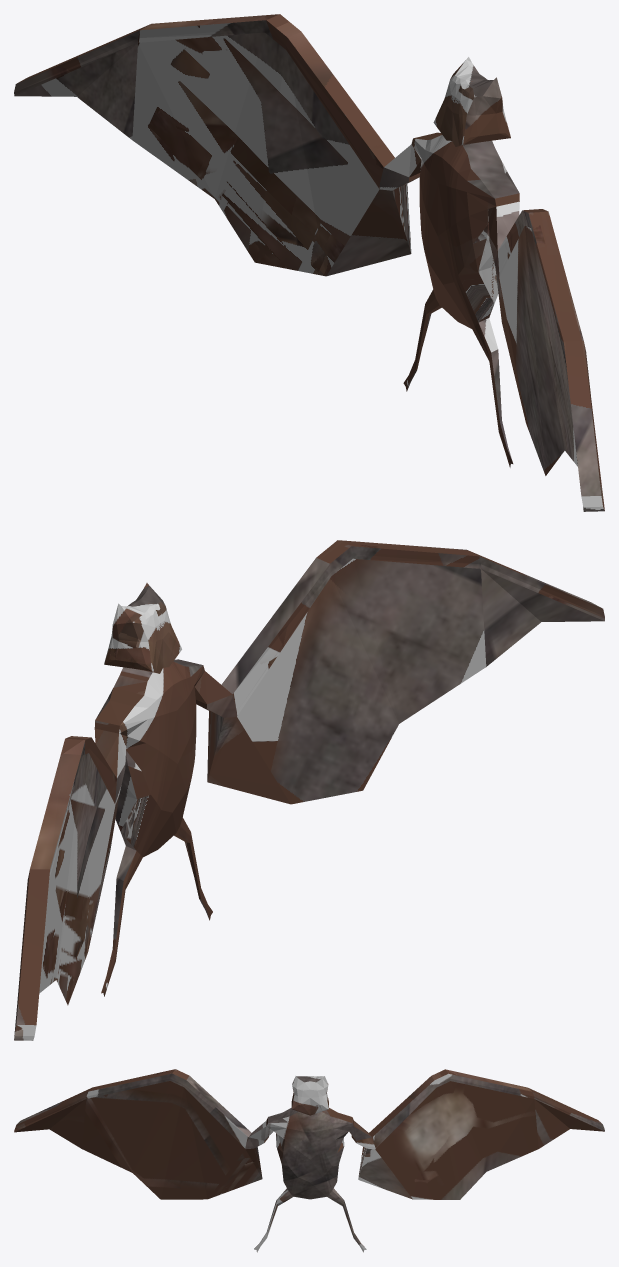
The model's file is Enemigo15.obj.
The picture shows the model from 3 angles, top to bottom: view 1: azimuth 30°, elevation 25°; view 2: azimuth 150°, elevation 25°; view 3: azimuth 270°, elevation 25°; orthographic projection. The views are drawn at different scales.
Parts seen in each view (by area): view 1: Plano; view 2: Plano; view 3: Plano.
Boxes of the visible parts, <box> form: Plano: <box>14,14,604,511</box>; Plano: <box>14,540,604,1040</box>; Plano: <box>14,1069,604,1252</box>.
Bounding box in the file's own units: 0.4412 × 0.7578 × 2.21.
1 material, 1 textured.
